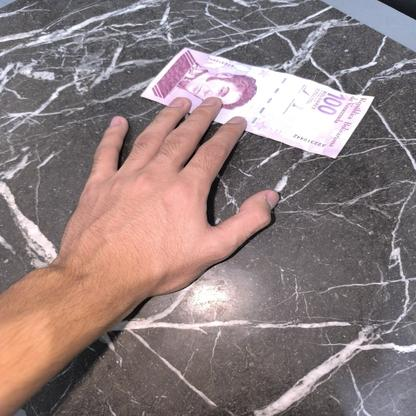one_hundred-front-vef: (140, 47, 374, 159)
